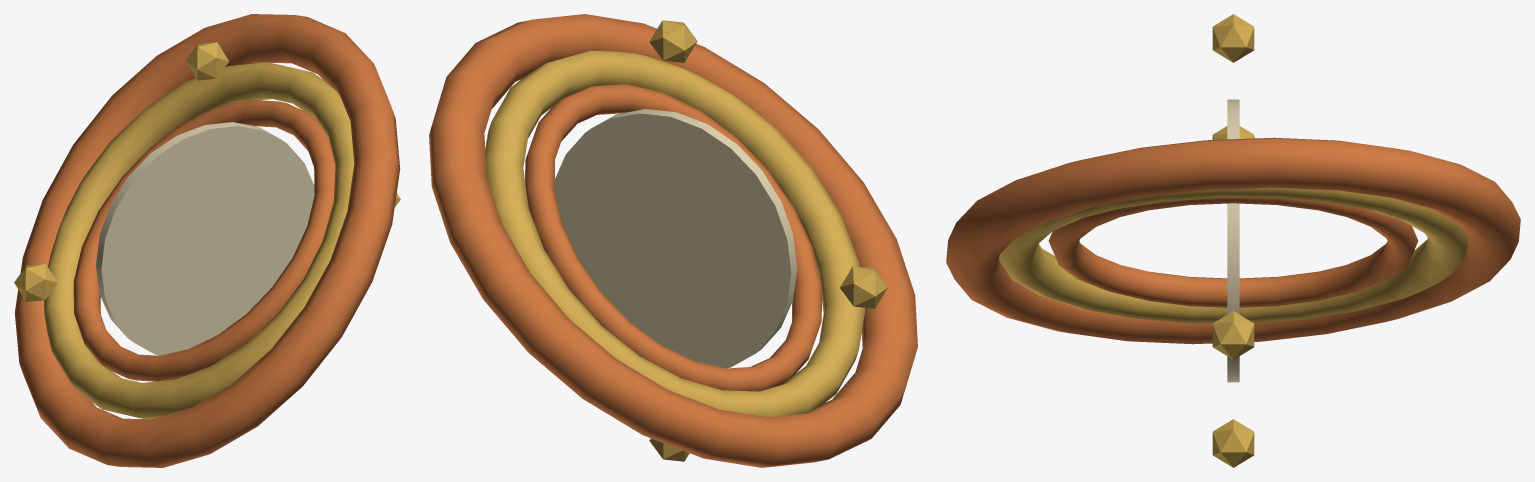
The model's file is trial.glb.
The picture shows the model from 3 angles, left to right: view 1: azimuth 30°, elevation 25°; view 2: azimuth 150°, elevation 25°; view 3: azimuth 270°, elevation 25°; orthographic projection. The views are drawn at different scales.
Visible parts, largest first — view 1: portal_ring_2, portal_core, portal_ring_1, portal_ring_0, portal_orbit_2, portal_orbit_1; view 2: portal_ring_2, portal_core, portal_ring_1, portal_ring_0, portal_orbit_1, portal_orbit_2; view 3: portal_ring_2, portal_ring_1, portal_ring_0, portal_core, portal_orbit_0, portal_orbit_1, portal_orbit_3.
Part boxes in pixels (bbox=[...]): portal_ring_2: bbox=[14, 14, 400, 467]; portal_core: bbox=[96, 122, 314, 355]; portal_ring_1: bbox=[44, 62, 354, 419]; portal_ring_0: bbox=[73, 99, 335, 381]; portal_orbit_2: bbox=[14, 263, 57, 301]; portal_orbit_1: bbox=[186, 42, 229, 80]; portal_ring_2: bbox=[429, 14, 917, 467]; portal_core: bbox=[554, 109, 797, 368]; portal_ring_1: bbox=[485, 50, 865, 417]; portal_ring_0: bbox=[525, 84, 822, 391]; portal_orbit_1: bbox=[649, 20, 697, 62]; portal_orbit_2: bbox=[840, 266, 887, 308]; portal_ring_2: bbox=[946, 137, 1520, 344]; portal_ring_1: bbox=[999, 187, 1467, 323]; portal_ring_0: bbox=[1048, 197, 1418, 307]; portal_core: bbox=[1227, 99, 1239, 382]; portal_orbit_0: bbox=[1212, 311, 1254, 359]; portal_orbit_1: bbox=[1212, 14, 1254, 62]; portal_orbit_3: bbox=[1212, 419, 1254, 467].
Size of what is drawn, in the model's own units: 3.17 by 3.17 by 3.73.
